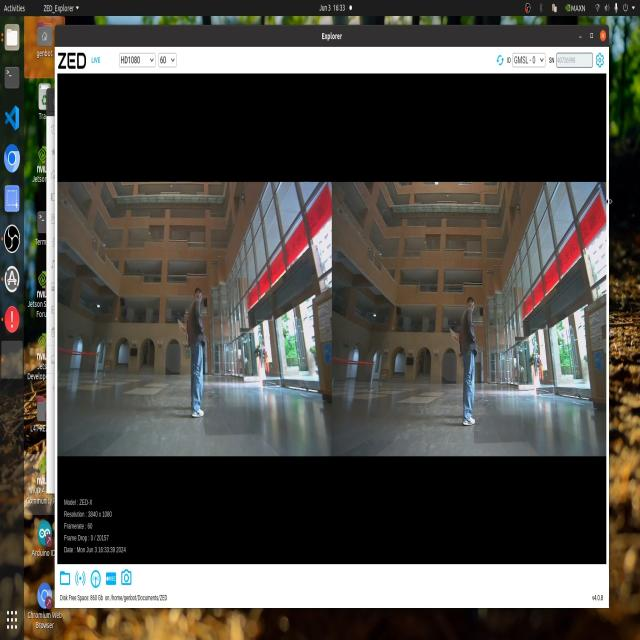red: (178, 321, 188, 337), (451, 329, 461, 345)
